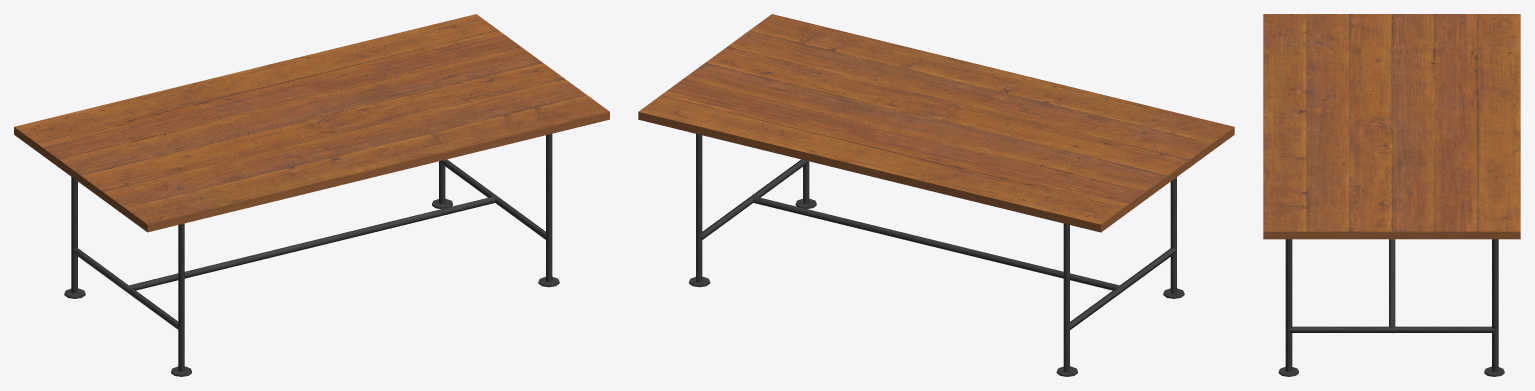
Rendered from Table.fbx.
3 views of the same model, side by side, from view 1: azimuth 30°, elevation 25°; view 2: azimuth 150°, elevation 25°; view 3: azimuth 270°, elevation 25° (orthographic). The views are drawn at different scales.
Visible parts, largest first — view 1: Table; view 2: Table; view 3: Table.
Part boxes in pixels (x1,y1,x2,y2): Table: (14, 14, 609, 376); Table: (638, 14, 1234, 376); Table: (1263, 14, 1520, 376).
Bounding box in the file's own units: 220 × 76.96 × 110.
2 materials, 2 textured.
